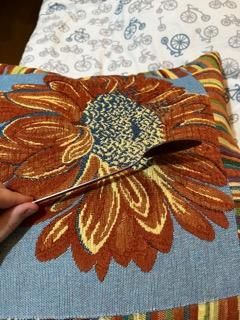spoon: (24, 136, 204, 209)
